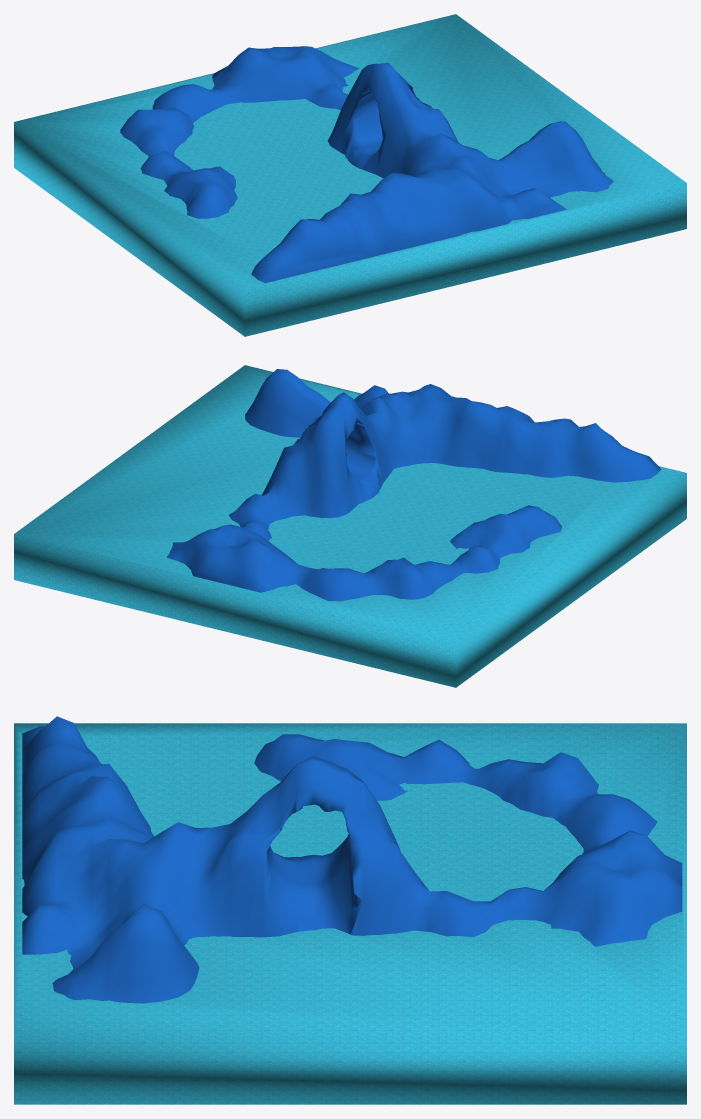
File: Icewaves3.fbx
3 views of the same model, one above another, from view 1: azimuth 30°, elevation 25°; view 2: azimuth 150°, elevation 25°; view 3: azimuth 270°, elevation 25° (orthographic). The views are drawn at different scales.
Visible parts, largest first — view 1: 3DGeom~3, 3DGeom~1; view 2: 3DGeom~3, 3DGeom~1; view 3: 3DGeom~3, 3DGeom~1.
Boxes of the visible parts, x1,y1,x2,y2 form: 3DGeom~3: (14, 14, 686, 336); 3DGeom~1: (120, 46, 613, 283); 3DGeom~3: (14, 365, 686, 687); 3DGeom~1: (167, 369, 661, 601); 3DGeom~3: (14, 723, 686, 1104); 3DGeom~1: (22, 716, 682, 1003).
Size of the model in its own units: 131 by 118 by 39.22.
Materials: 3 (1 with a texture image).
